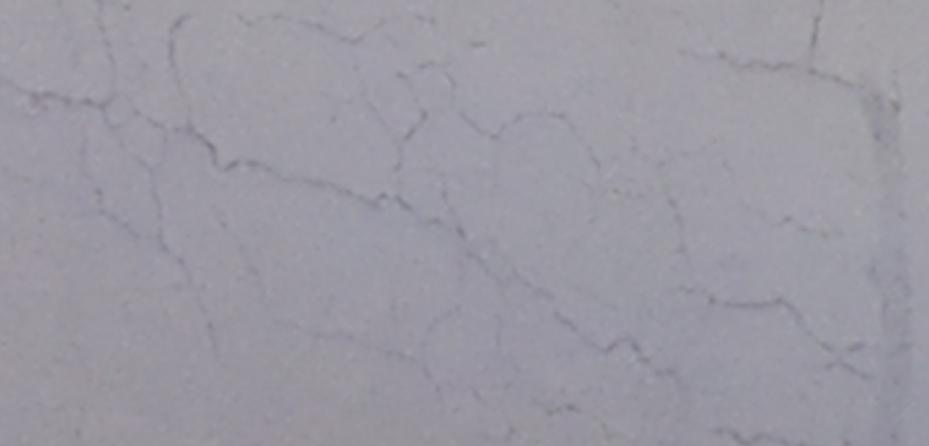fissura: (7, 15, 815, 446)
